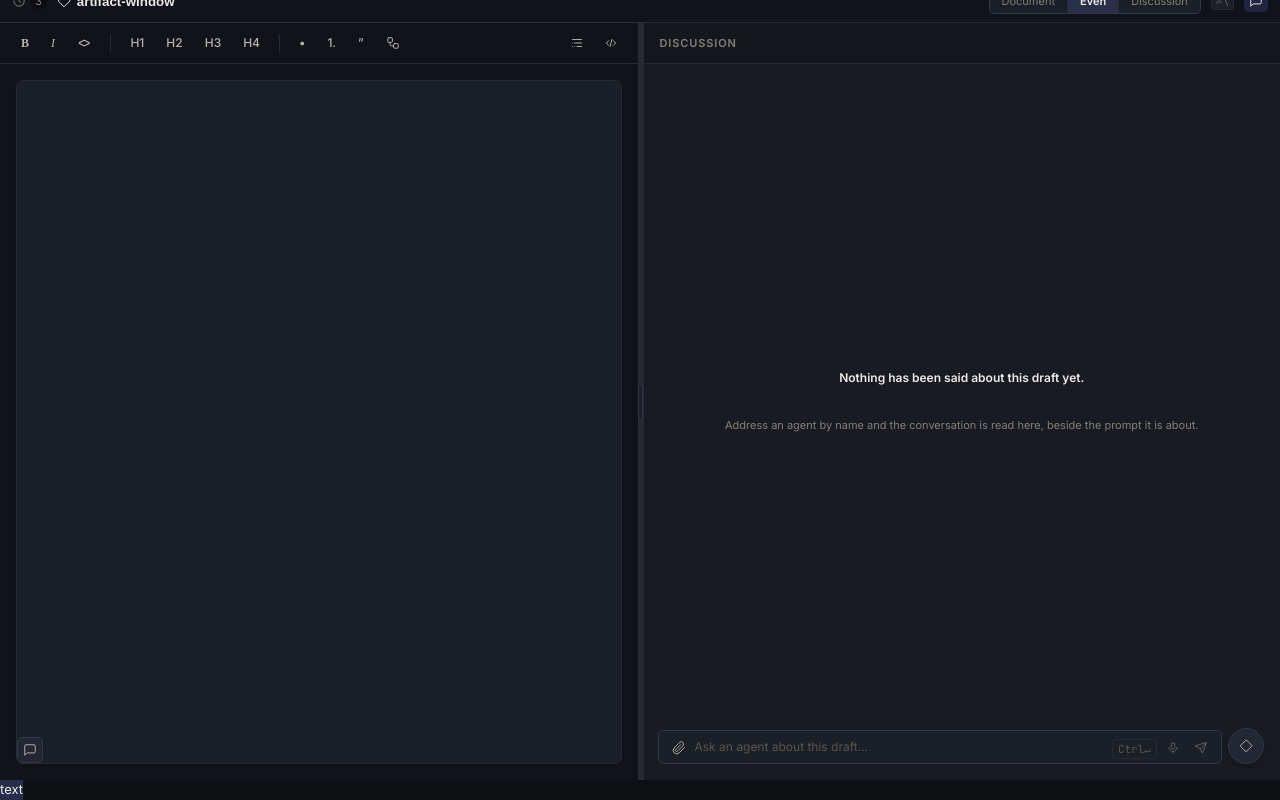
Test case: a comment on a passage of the prompt (DDS-FR-QMBC, NAW-FR-32) › DDS-FR-QMBC, CMT-FR-07: discarding the composer of a passage opens no discussion
(page scrolled)
Click the button named "Comment on selection" at (30, 750), box left=17, top=737, right=43, bottom=763
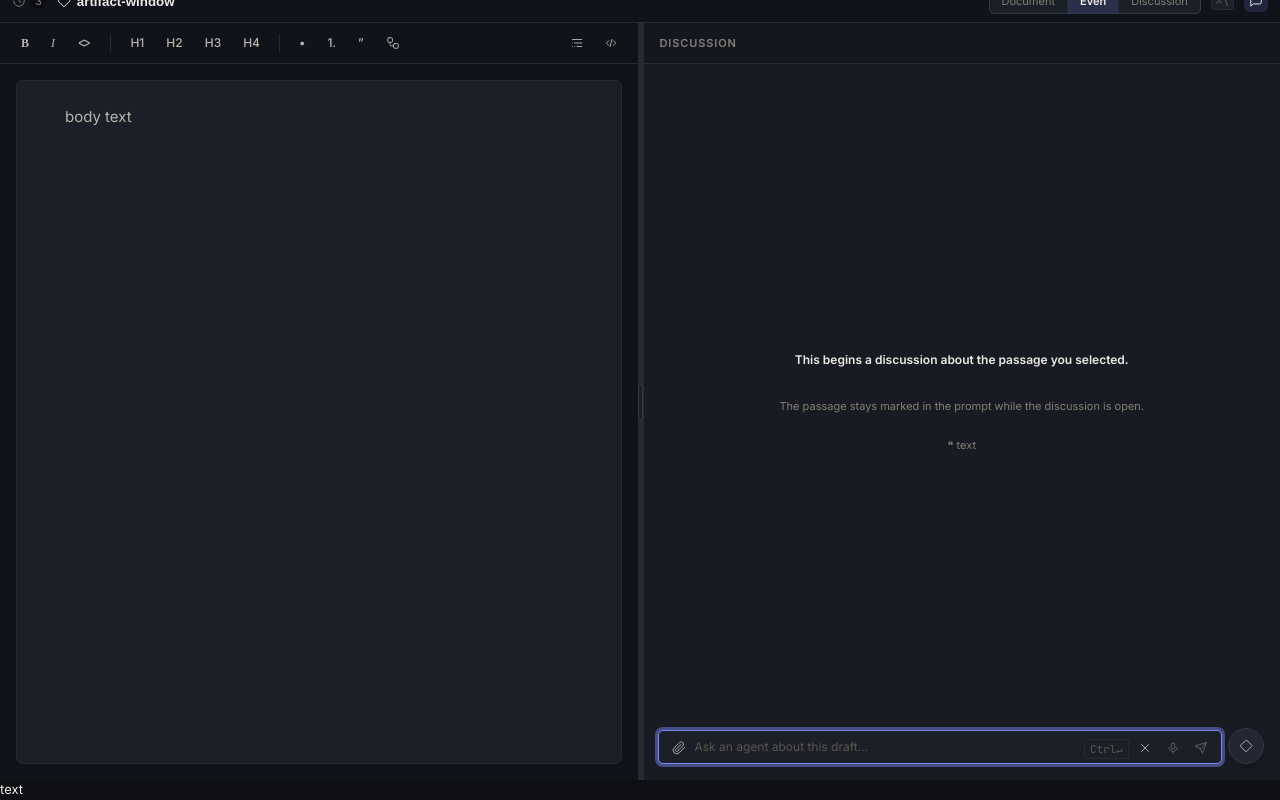
Expected: the text "❝ text" is shown, left=948, top=438, right=976, bottom=452
Click the button named "Cancel" at (1145, 748), box left=1133, top=737, right=1157, bottom=759
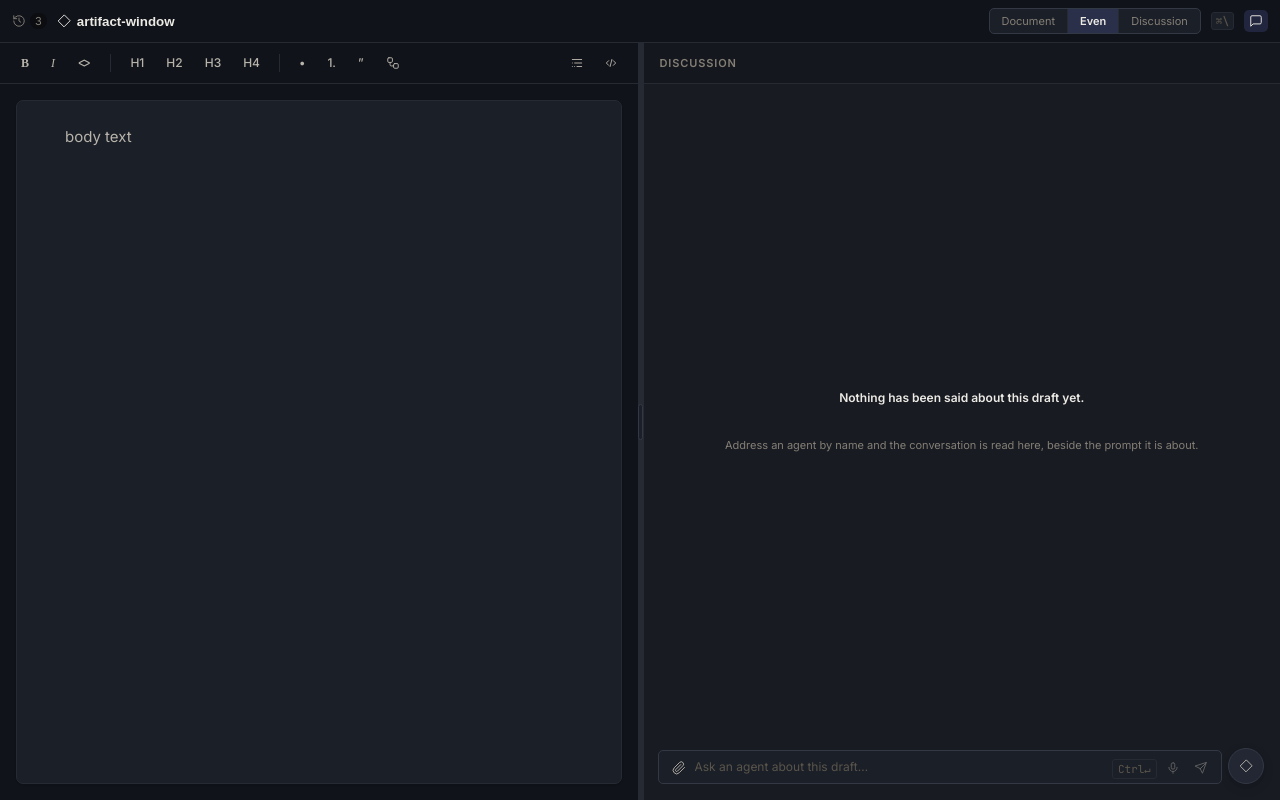
Expected: the text with test id "discussion-opening-fragment" is gone
